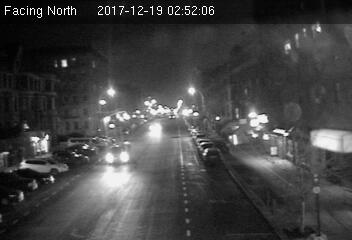car: (104, 142, 135, 164)
